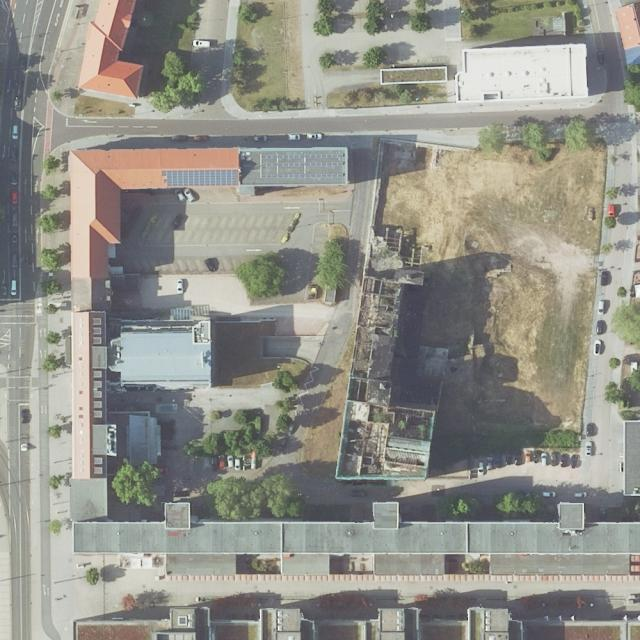PV: (160, 168, 238, 185), (261, 160, 344, 167), (260, 152, 343, 158), (260, 173, 344, 178)
